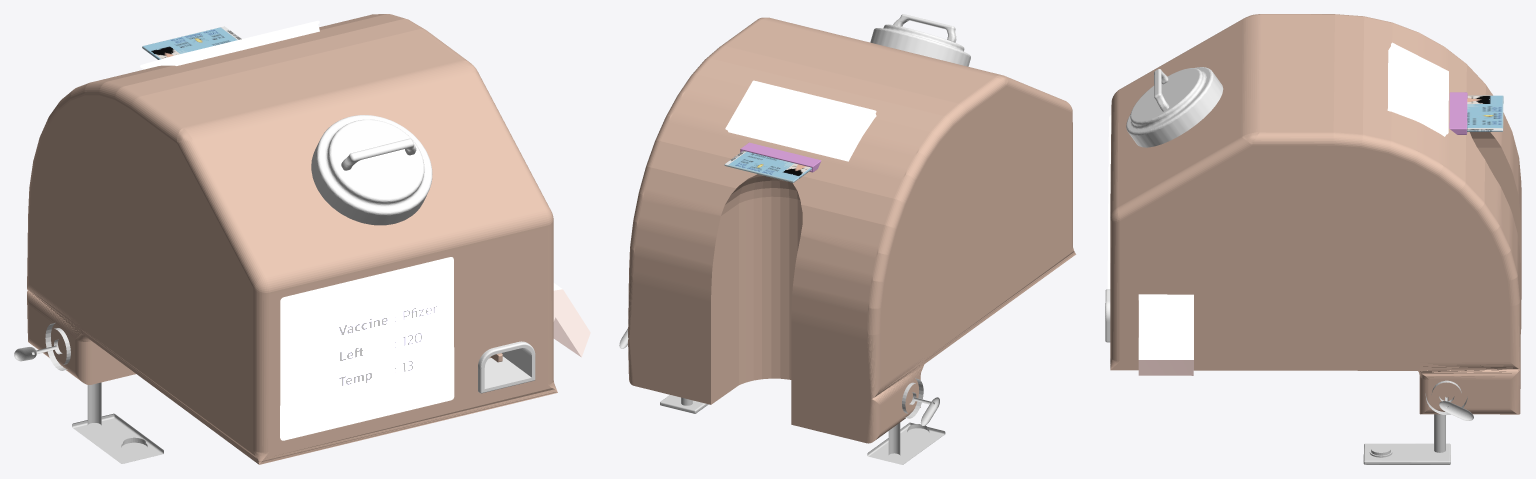
Rendered from prototype6.glb.
3 renders of one model, left to right at view 1: azimuth 30°, elevation 25°; view 2: azimuth 150°, elevation 25°; view 3: azimuth 270°, elevation 25°, orthographic. The views are drawn at different scales.
Parts seen in each view (by area): view 1: Cube, Plane.001, Circle, Cylinder.002, Plug, Plane, Plane.003, Plane.004, Circle.002; view 2: Cube, Plane, Circle, Cylinder.002, Plane.004, Plane.002, Circle.002, Cylinder; view 3: Cube, Circle, Plane.003, Plane, Cylinder, Plane.004, Plane.002, Circle.001, Plane.001.
Part boxes in pixels (x1,y1,x2,y2): Cube: (27, 14, 557, 464); Plane.001: (280, 257, 454, 440); Circle: (311, 115, 432, 225); Cylinder.002: (72, 382, 163, 463); Plug: (478, 341, 535, 393); Plane: (140, 20, 319, 69); Plane.003: (553, 283, 590, 357); Plane.004: (142, 26, 241, 59); Circle.002: (14, 322, 70, 370); Cube: (628, 17, 1075, 443); Plane: (725, 80, 876, 161); Circle: (870, 14, 970, 66); Cylinder.002: (867, 422, 945, 464); Plane.004: (724, 150, 811, 182); Plane.002: (740, 142, 821, 172); Circle.002: (902, 378, 939, 425); Cylinder: (660, 395, 708, 413); Cube: (1110, 14, 1521, 414); Circle: (1126, 67, 1223, 147); Plane.003: (1138, 294, 1193, 375); Plane: (1387, 42, 1448, 136); Cylinder: (1363, 414, 1450, 464); Plane.004: (1467, 95, 1503, 131); Plane.002: (1449, 92, 1467, 134); Circle.001: (1425, 380, 1473, 420); Plane.001: (1107, 115, 1111, 289).
Size of the model in its own units: 13.78 by 13.15 by 15.07.
10 materials, 1 textured.
